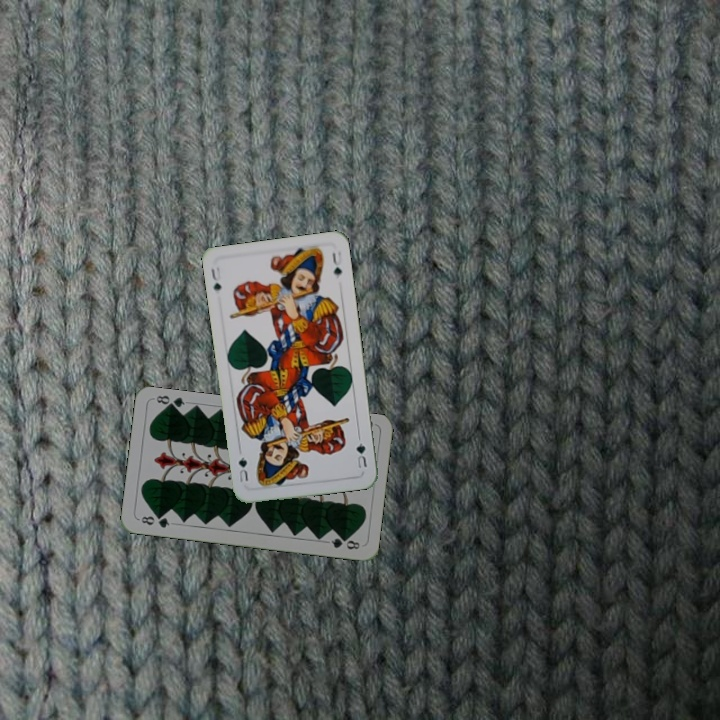G8: (137, 512, 172, 531)
GU: (352, 439, 369, 471), (207, 263, 224, 294)
